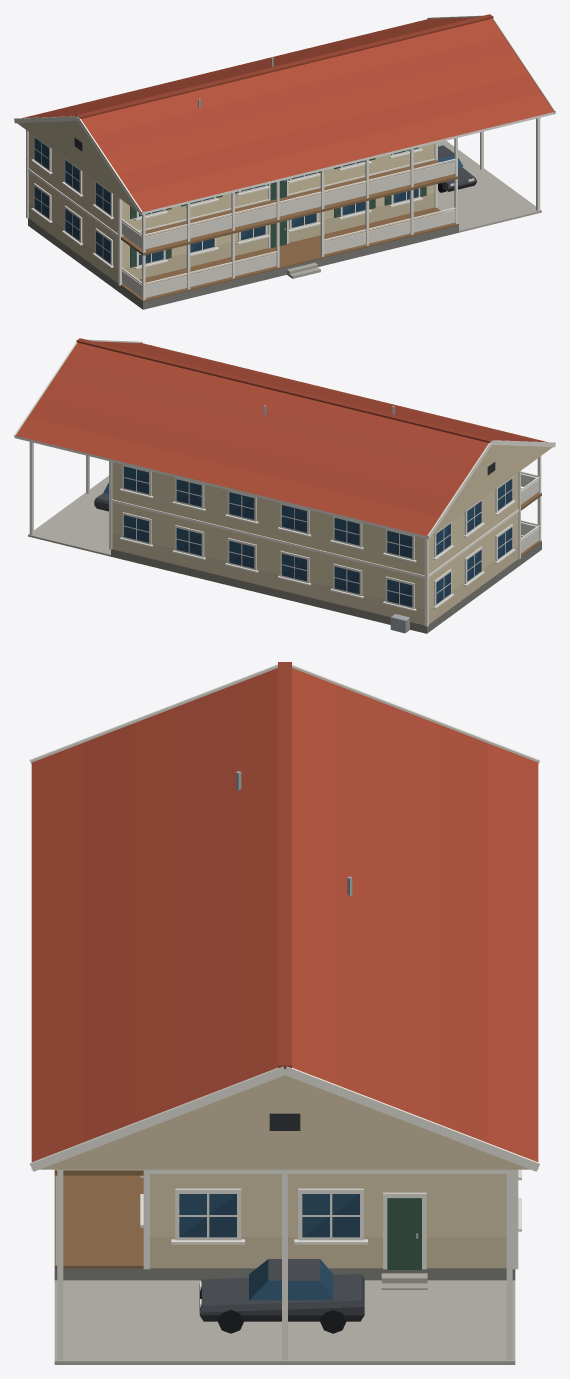
File: house_24x12_2f.glb
The picture shows the model from 3 angles, top to bottom: view 1: azimuth 30°, elevation 25°; view 2: azimuth 150°, elevation 25°; view 3: azimuth 270°, elevation 25°; orthographic projection. The views are drawn at different scales.
Parts seen in each view (by area): view 1: house; view 2: house; view 3: house.
Boxes of the visible parts, x1,y1,x2,y2 form: house: (14,14,555,309); house: (14,338,555,633); house: (29,662,540,1364).
Bounding box in the file's own units: 24.93 × 8.81 × 13.29.
